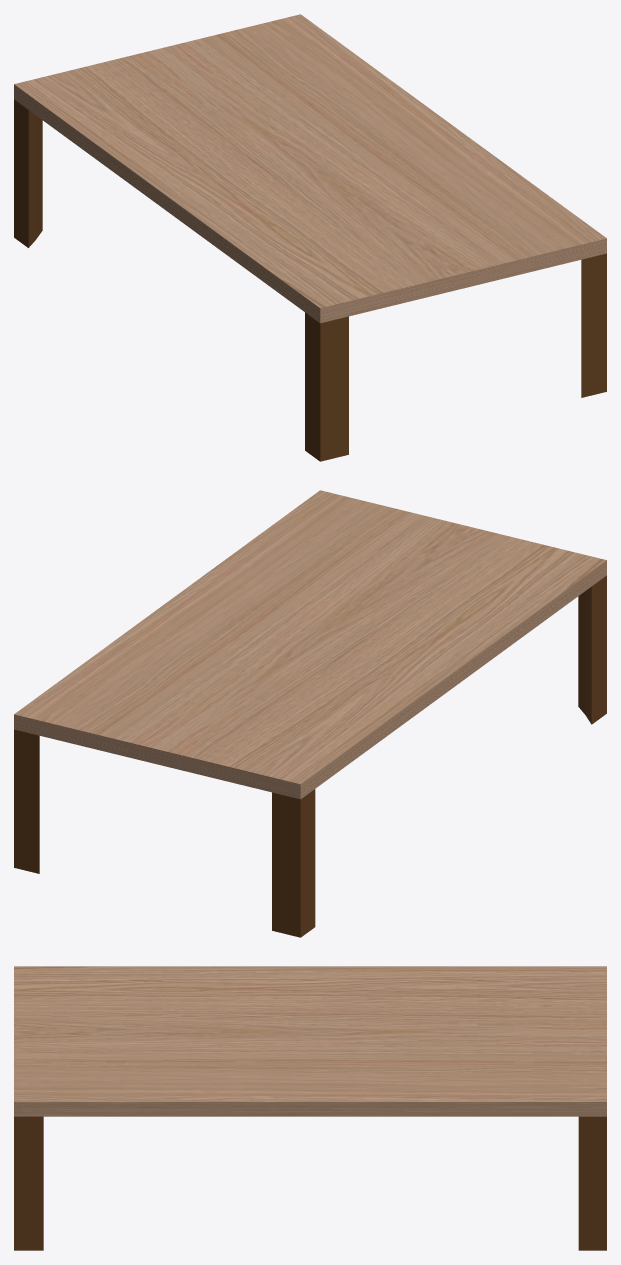
File: meja_grow.glb
3 renders of one model, top to bottom at view 1: azimuth 30°, elevation 25°; view 2: azimuth 150°, elevation 25°; view 3: azimuth 270°, elevation 25°, orthographic. The views are drawn at different scales.
Parts seen in each view (by area): view 1: Cube.001; view 2: Cube.001; view 3: Cube.001.
Part boxes in pixels (box(x1,y1,x2,y2)): Cube.001: box(14, 14, 606, 461); Cube.001: box(14, 490, 606, 937); Cube.001: box(14, 966, 606, 1250).
Bounding box in the file's own units: 6.18 × 3.16 × 11.44.
2 materials, 1 textured.
